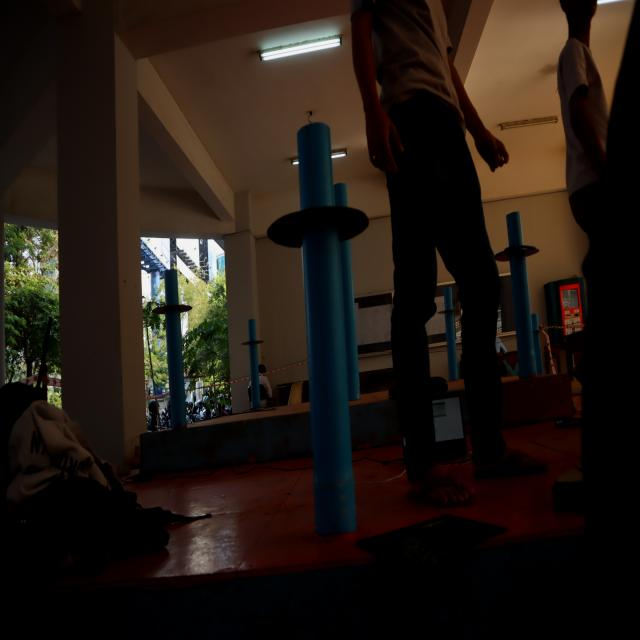pole: (249, 111, 365, 281), (491, 205, 547, 302), (148, 263, 196, 341), (241, 319, 265, 363)
